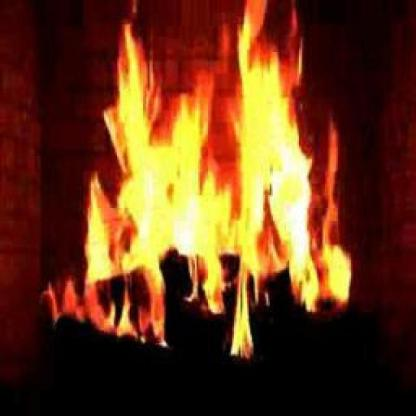fire: (27, 0, 358, 368)
